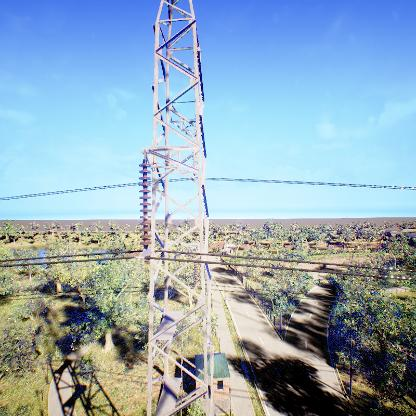insulator: (138, 162, 153, 250)
